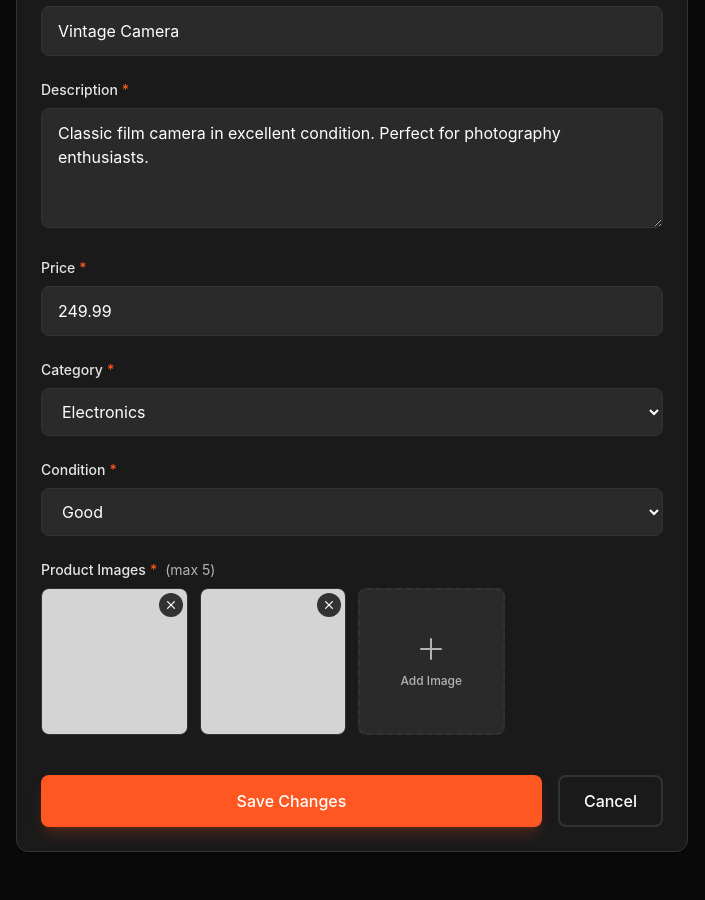
EditProduct Page › failed submit shows error message
(page scrolled)
Click the button "Save Changes" at coordinates (291, 800), box [41,774,542,826]
(page scrolled)
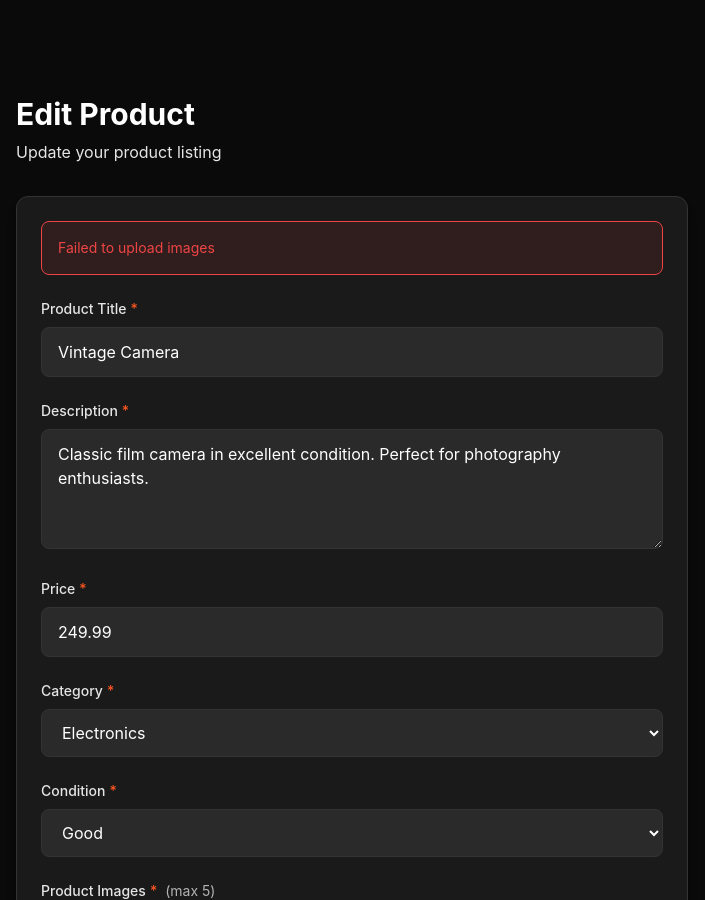
Expected: the text "Failed to upload images" is shown, [41,221,663,275]
